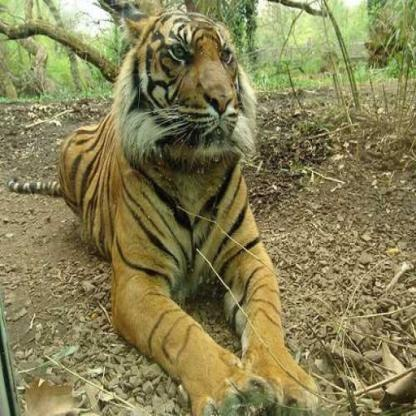Tiger: (47, 0, 334, 403)
